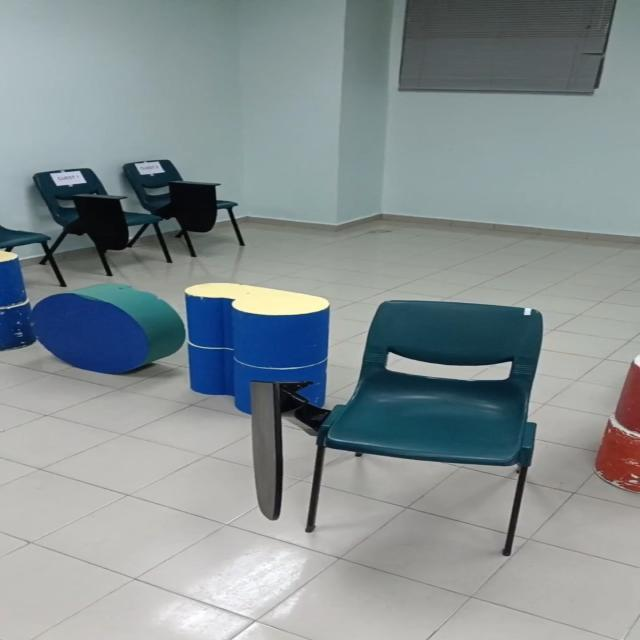sandalye: (306, 300, 541, 556), (33, 168, 172, 276), (123, 160, 244, 257)
